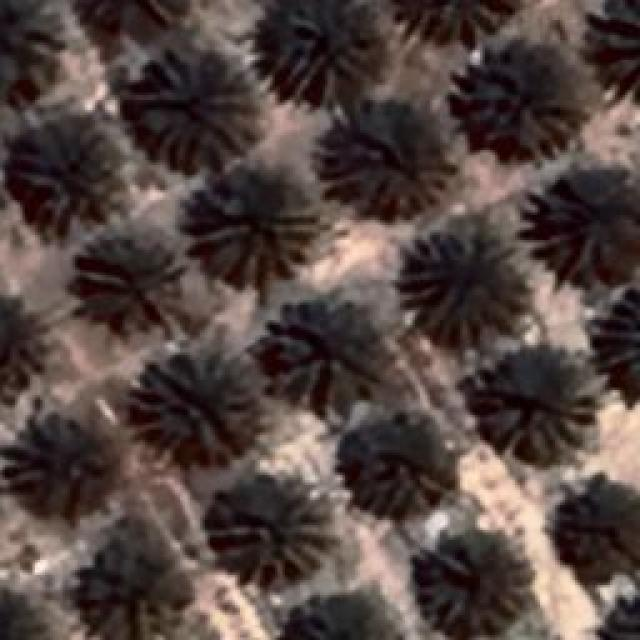PalmTree: (26, 23, 456, 102), (395, 222, 530, 352), (310, 100, 455, 218), (180, 177, 322, 285), (128, 348, 255, 468), (137, 49, 260, 172), (264, 300, 388, 410), (448, 60, 582, 160), (9, 130, 132, 230), (270, 2, 382, 108), (480, 368, 598, 462), (542, 174, 640, 284), (74, 240, 188, 332), (424, 532, 524, 636), (20, 418, 120, 520), (210, 498, 332, 580), (94, 532, 186, 640), (557, 472, 640, 577), (342, 448, 456, 518), (280, 590, 395, 640), (592, 292, 638, 400), (0, 290, 42, 407), (592, 0, 638, 98), (73, 0, 188, 28), (0, 588, 53, 640), (602, 590, 640, 640)
